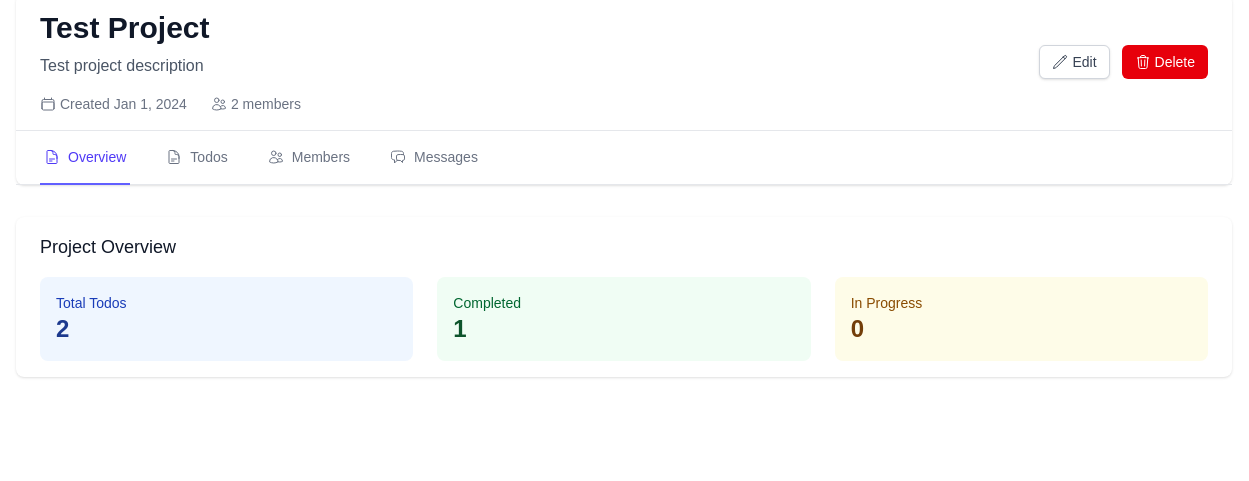
ProjectDetailPage › should switch to members tab when clicked
This screenshot has width=1249, height=481.
Click the button "Members" at (309, 158), box [264, 131, 354, 185]
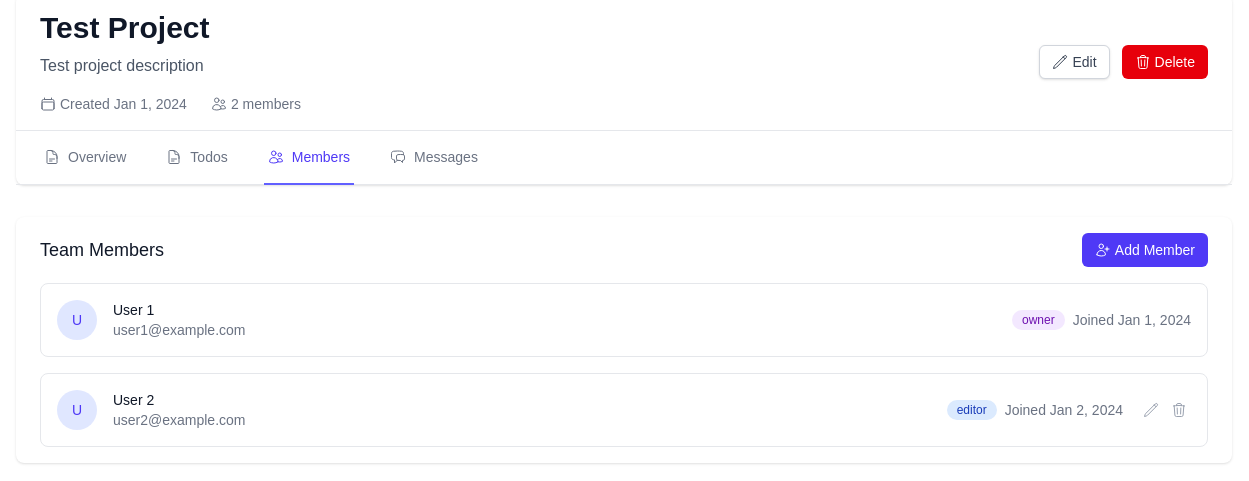
Expected: the heading "Team Members" is shown, [40, 236, 164, 264]
Expected: the heading "User 1" is shown, [113, 302, 154, 318]
Expected: the heading "User 2" is shown, [113, 392, 154, 408]
